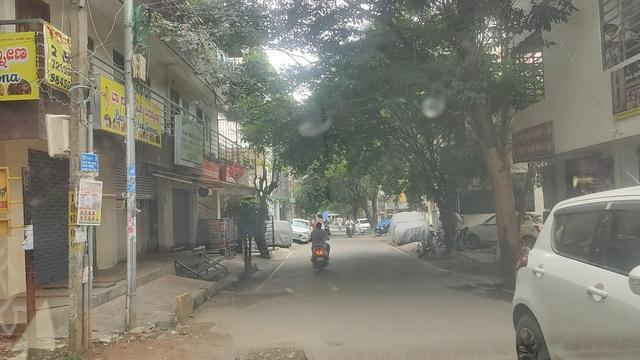LMV: (422, 200, 640, 360), (294, 200, 334, 283)
RoadDamages: (133, 309, 320, 360)
